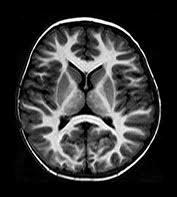Normal_Brain: (3, 1, 177, 197)
